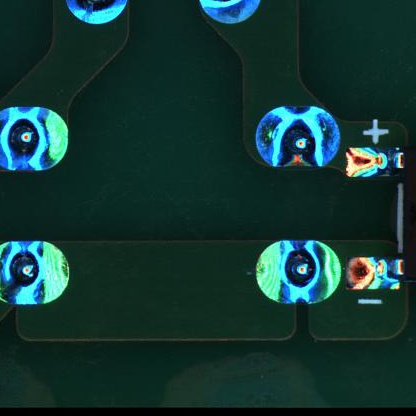spot: (246, 94, 345, 175), (239, 235, 347, 307)
